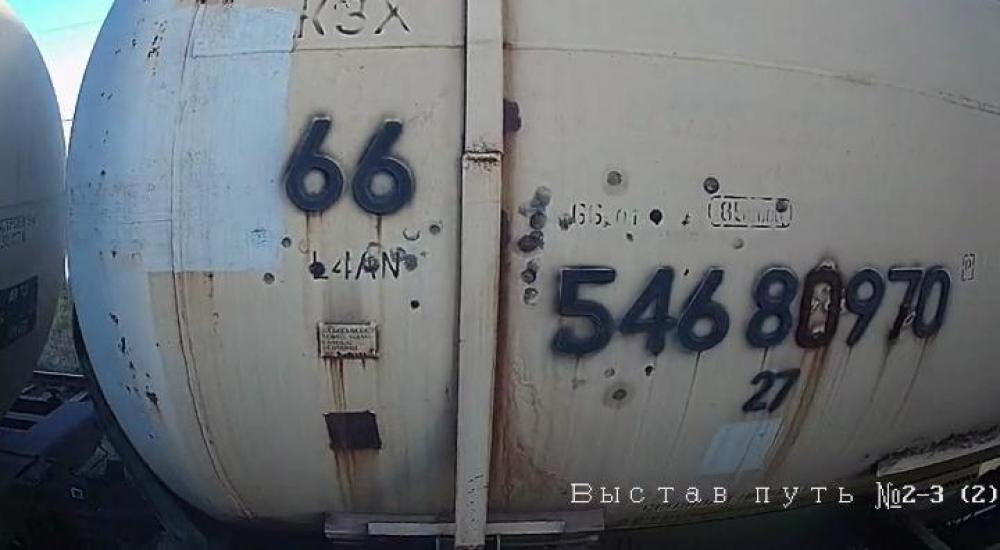Wagon-number: (550, 260, 956, 358)
